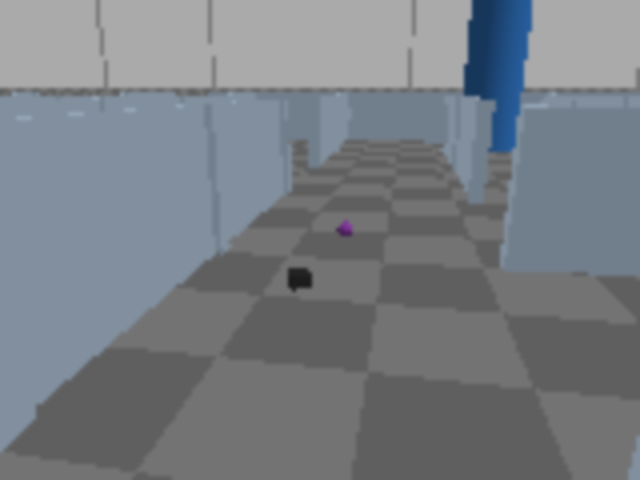puck: (288, 268, 311, 290), (335, 220, 355, 239)
